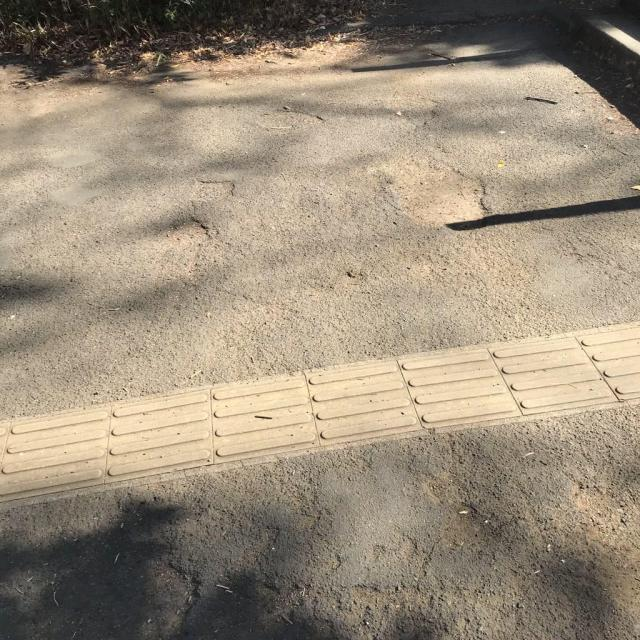Surface Erosion: (30, 76, 632, 543)
